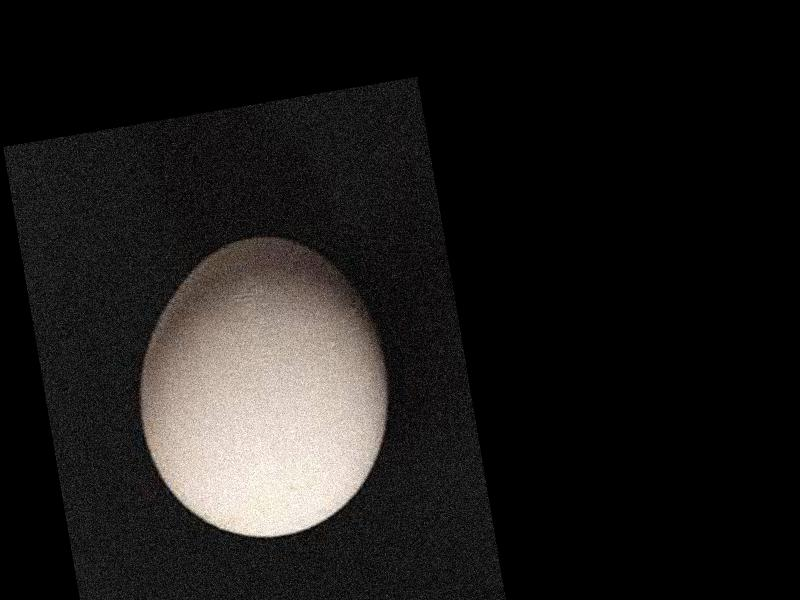Eggs: (116, 221, 408, 557)
